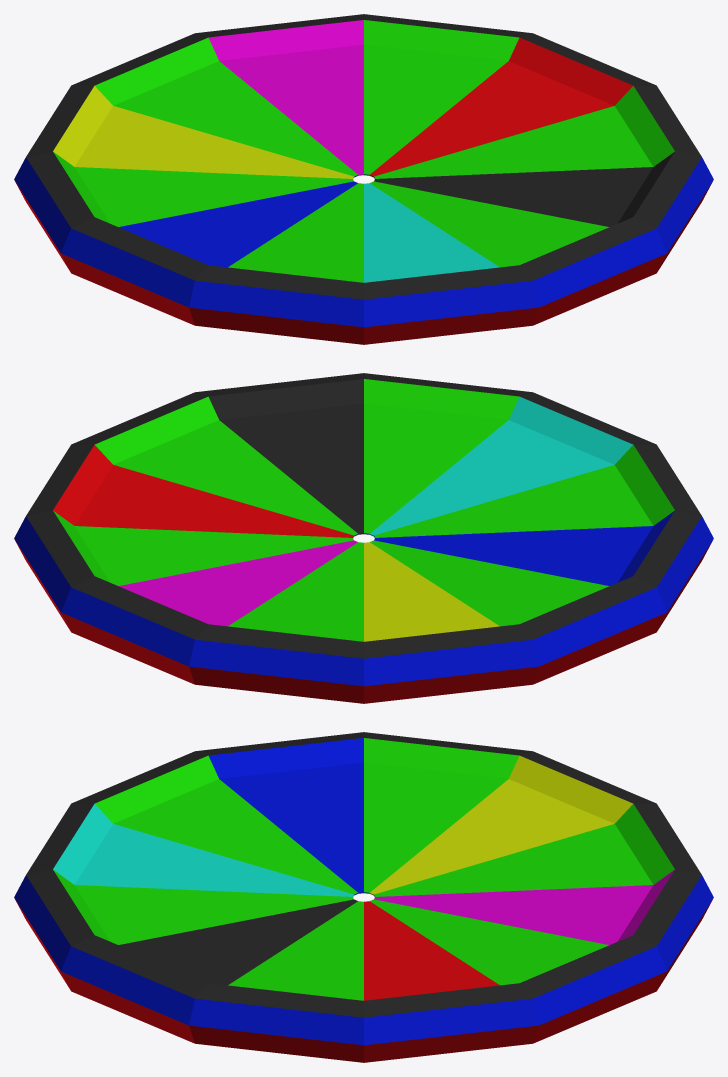
Rendered from charkha_2.fbx.
3 renders of one model, top to bottom at view 1: azimuth 30°, elevation 25°; view 2: azimuth 150°, elevation 25°; view 3: azimuth 270°, elevation 25°, orthographic.
Parts seen in each view (by area): view 1: Torus; view 2: Torus; view 3: Torus.
Boxes of the visible parts, box(x1,y1,x2,y2) form: Torus: box(14, 14, 713, 344); Torus: box(14, 373, 713, 703); Torus: box(14, 732, 713, 1062).
Bounding box in the file's own units: 1100 × 97.49 × 1100.
